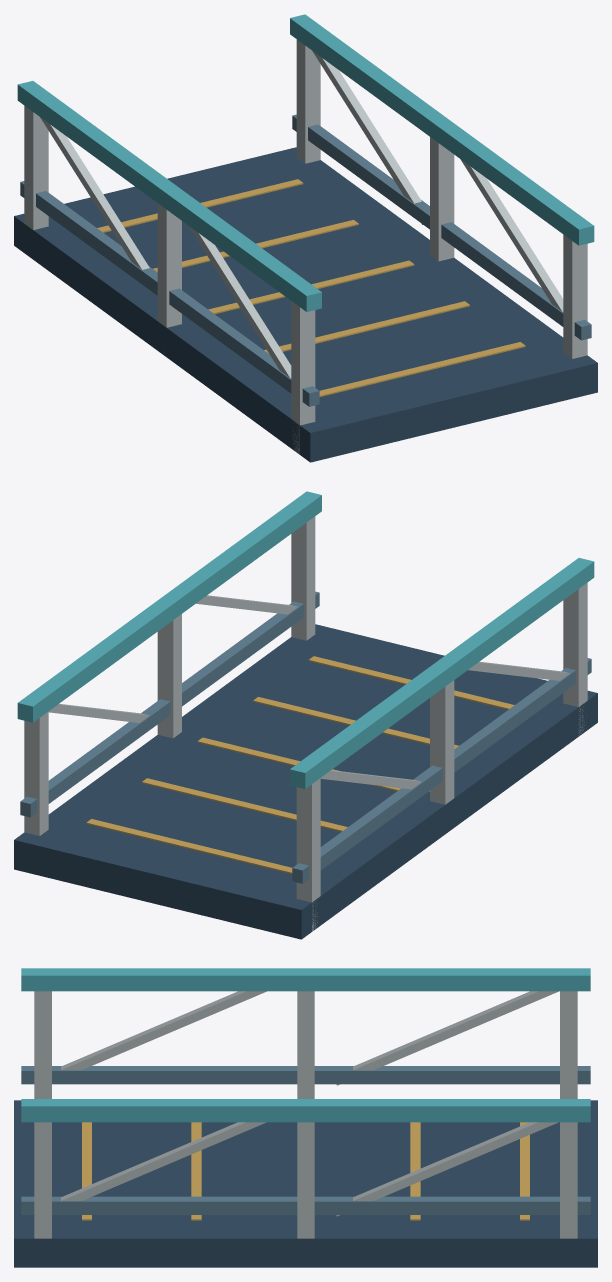
File: SpaceStation_DockingBridge_Showcase.glb
The picture shows the model from 3 angles, top to bottom: view 1: azimuth 30°, elevation 25°; view 2: azimuth 150°, elevation 25°; view 3: azimuth 270°, elevation 25°; orthographic projection.
Visible parts, largest first — view 1: SpaceStation_DockingBridge_Showcase; view 2: SpaceStation_DockingBridge_Showcase; view 3: SpaceStation_DockingBridge_Showcase.
Boxes of the visible parts, x1,y1,x2,y2 form: SpaceStation_DockingBridge_Showcase: (14, 14, 597, 462); SpaceStation_DockingBridge_Showcase: (14, 491, 597, 939); SpaceStation_DockingBridge_Showcase: (14, 968, 597, 1267).
Size of the model in its own units: 2.24 by 1.22 by 4.
